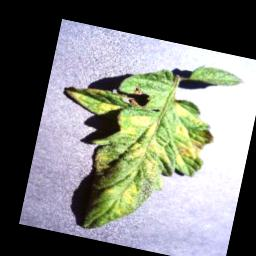Leaf_Mold: (58, 80, 125, 119), (169, 121, 217, 172), (121, 137, 172, 185), (113, 108, 161, 143), (170, 101, 207, 126), (117, 181, 141, 208)
